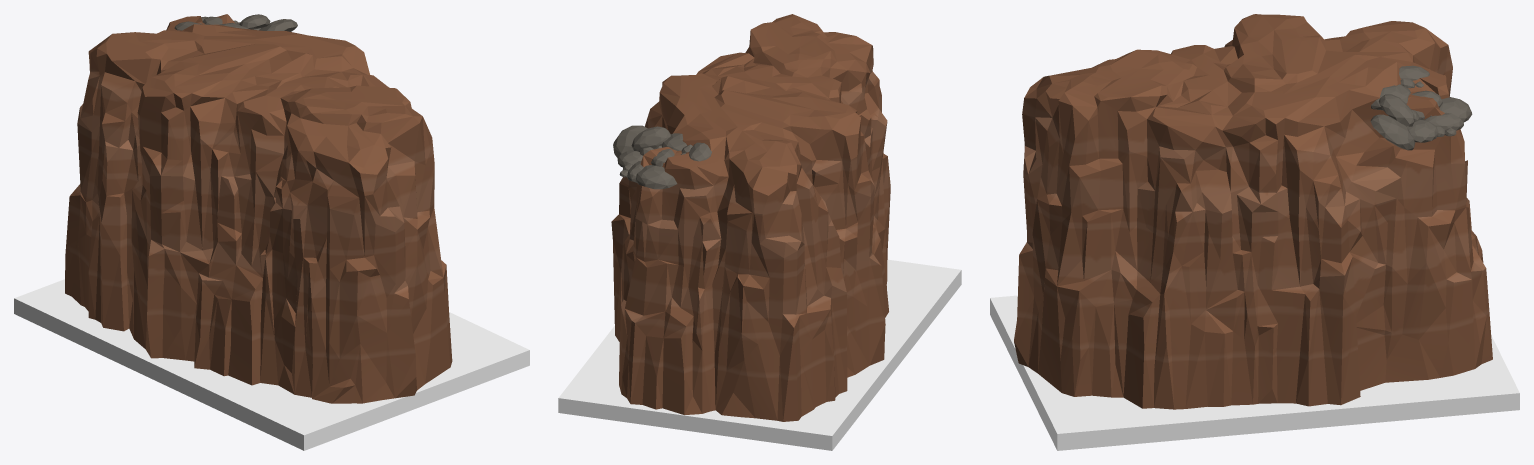
File: SM_Env_RockCluster_01.fbx
The picture shows the model from 3 angles, left to right: view 1: azimuth 30°, elevation 25°; view 2: azimuth 150°, elevation 25°; view 3: azimuth 270°, elevation 25°; orthographic projection. The views are drawn at different scales.
Parts seen in each view (by area): view 1: SM_Env_Butte_01 (20), Cube; view 2: SM_Env_Butte_01 (20), Cube, SM_Env_Rock_Round_02 (1), SM_Env_Rock_Round_03 (2), SM_Env_Rock_Round_02 (3), SM_Env_Rock_Round_03 (3); view 3: SM_Env_Butte_01 (20), Cube, SM_Env_Rock_Round_02 (3), SM_Env_Rock_Round_03 (2), SM_Env_Rock_Round_03, SM_Env_Rock_Round_02, SM_Env_Rock_Round_03 (3).
Boxes of the visible parts, box(x1,y1,x2,y2) form: SM_Env_Butte_01 (20): box(65, 14, 452, 403); Cube: box(14, 279, 529, 450); SM_Env_Butte_01 (20): box(611, 14, 890, 421); Cube: box(558, 259, 961, 450); SM_Env_Rock_Round_02 (1): box(635, 165, 677, 189); SM_Env_Rock_Round_03 (2): box(631, 126, 670, 155); SM_Env_Rock_Round_02 (3): box(613, 125, 647, 158); SM_Env_Rock_Round_03 (3): box(681, 142, 711, 161); SM_Env_Butte_01 (20): box(1014, 14, 1492, 409); Cube: box(990, 295, 1519, 450); SM_Env_Rock_Round_02 (3): box(1370, 114, 1415, 150); SM_Env_Rock_Round_03 (2): box(1379, 94, 1419, 126); SM_Env_Rock_Round_03: box(1424, 112, 1463, 136); SM_Env_Rock_Round_02: box(1404, 119, 1438, 142); SM_Env_Rock_Round_03 (3): box(1399, 65, 1429, 88).
Size of the model in its own units: 23.21 by 18.49 by 29.37.
